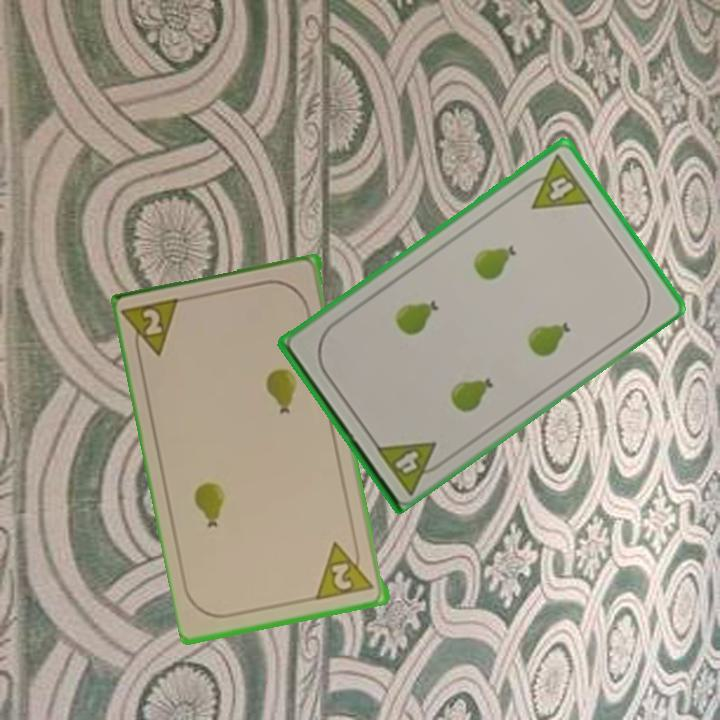2p: (122, 294, 187, 365), (314, 536, 378, 603)
4p: (516, 151, 595, 213), (371, 437, 450, 497)
